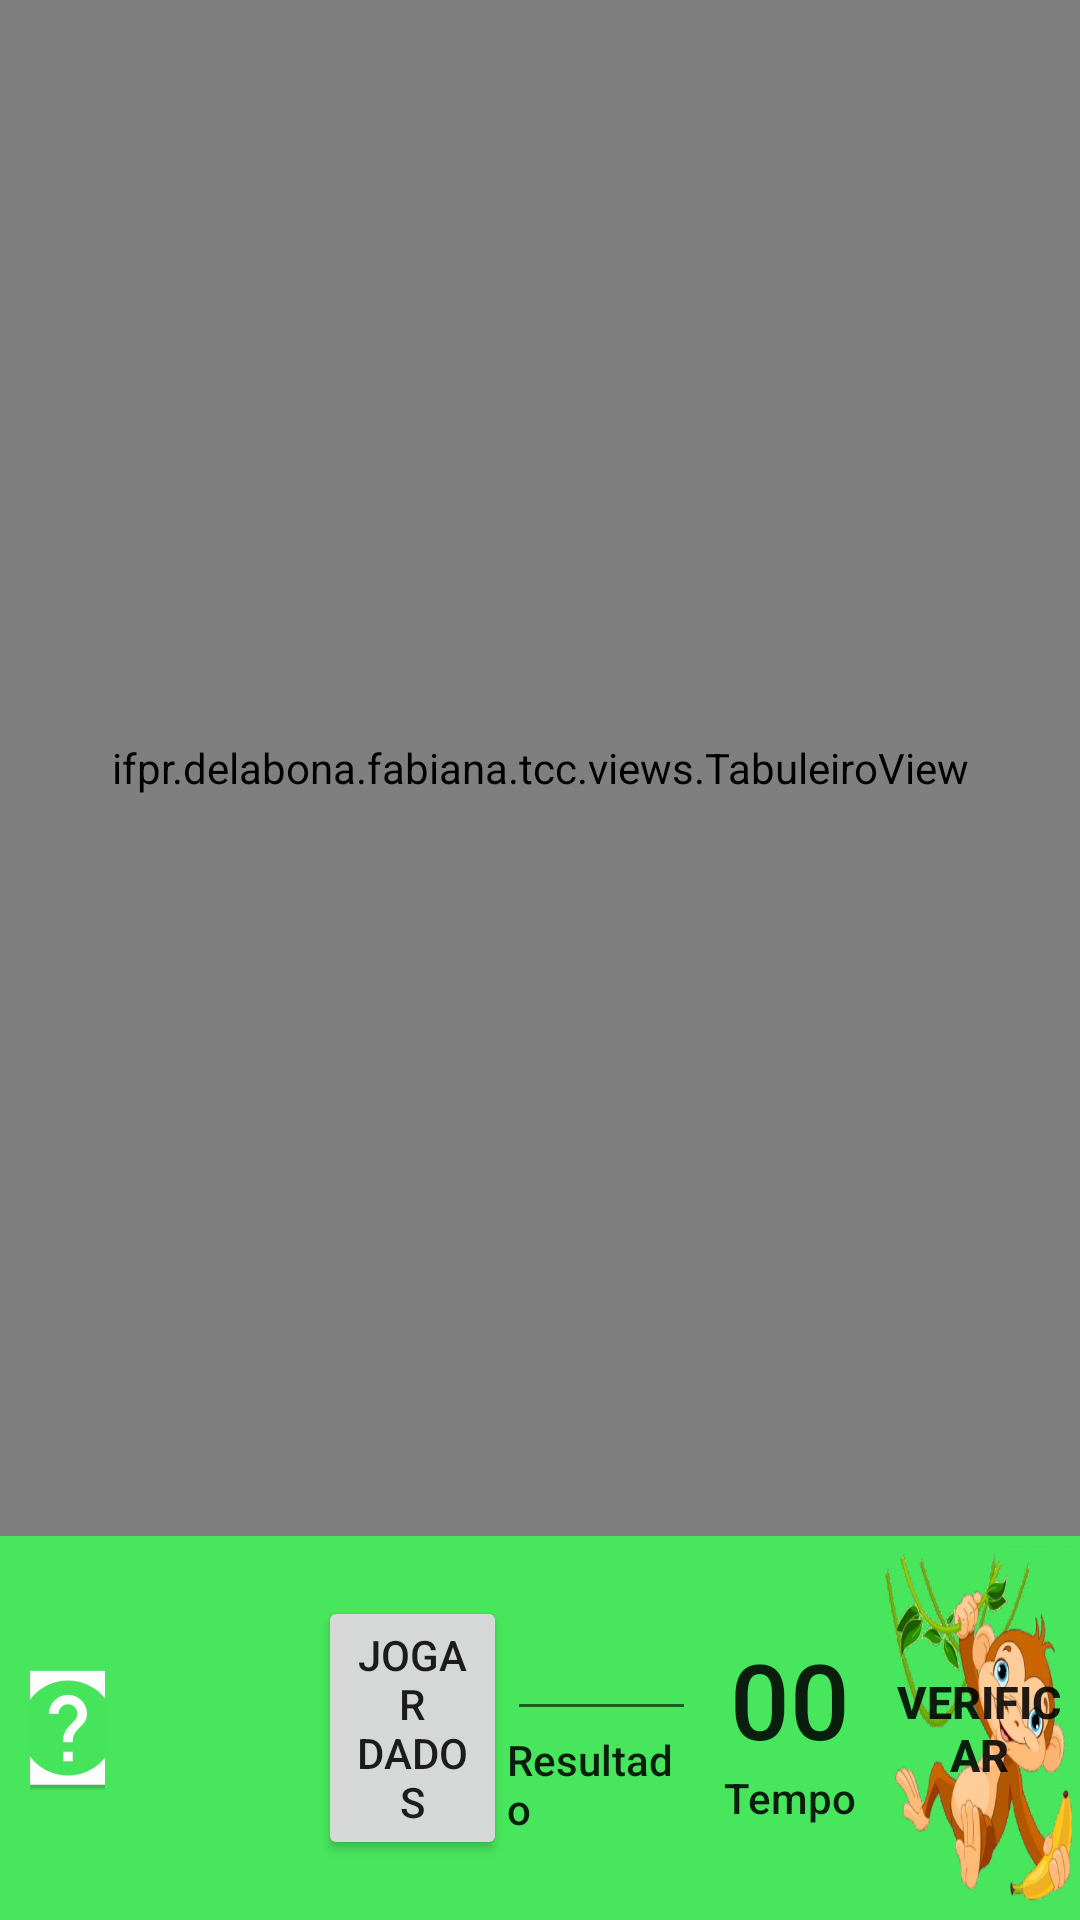

Icon bounding boxes for this 1080px x 1920px phone screenshot, format (x1, y1, x2, y2):
help: (30, 1671, 105, 1788)
